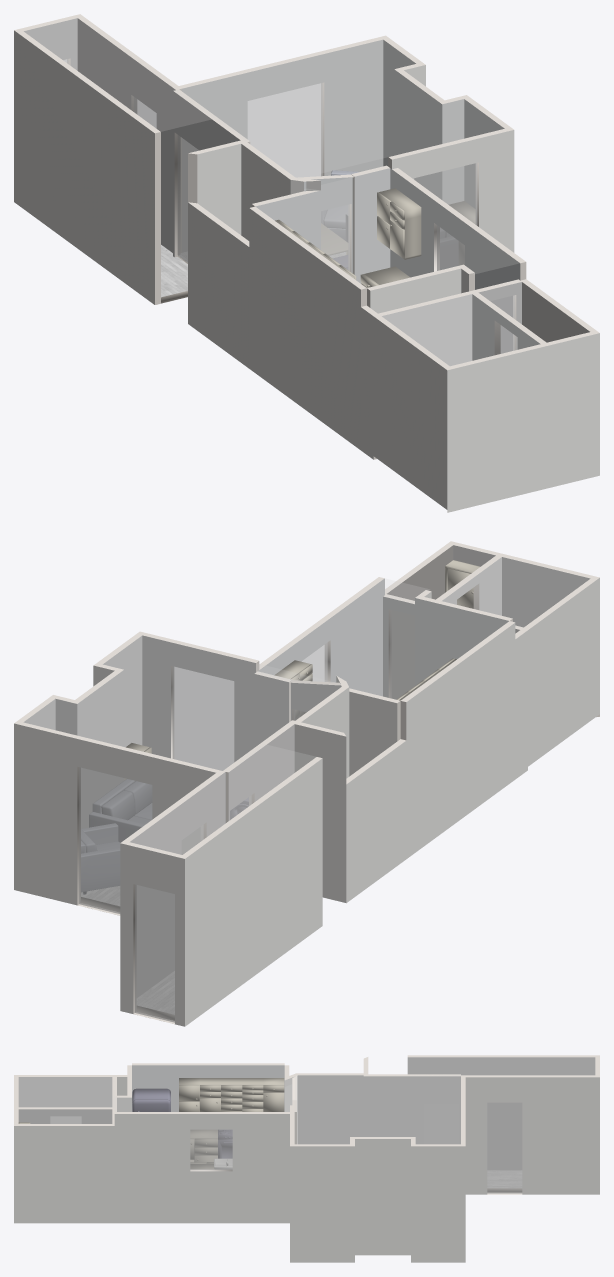
Rendered from DownStairs.fbx.
3 views of the same model, one above another, from view 1: azimuth 30°, elevation 25°; view 2: azimuth 150°, elevation 25°; view 3: azimuth 270°, elevation 25° (orthographic). The views are drawn at different scales.
Visible parts, largest first — view 1: node_e09bec85_41fc_4711_9617_8f8910af11a0_mesh0, node_bde98dd7_7468_4153_a539_24a3189ed876_mesh0, node_0b18f23c_bc8f_4157_9709_190154636790_mesh0, node_01e51485_fe51_4777_a3a5_19509112cd63_mesh0, node_1a5cfd26_9a8b_479d_abb2_7899710f35ef_mesh0, node_c01352d6_4fd7_4d85_8f3b_c463dabbd80f_mesh0, node_ffc3a1aa_f51f_4ea8_8422_f7a84c919ce6_mesh0, node_b0e78153_e67b_43ed_bbc0_40629ec5e424_mesh0, node_323c6156_c255_4d85_be8c_0e797ea8f996_mesh0, node_5beae804_e252_41e1_a04f_5f7b3a50b98e_mesh0, node_81e302af_e833_48b1_a591_9fe09c23a3ef_mesh0, node_7e9cc0b6_a148_431a_a0c9_c3fac64e8589_mesh0 (+43 smaller); view 2: node_e09bec85_41fc_4711_9617_8f8910af11a0_mesh0, node_bde98dd7_7468_4153_a539_24a3189ed876_mesh0, node_0b18f23c_bc8f_4157_9709_190154636790_mesh0, node_01e51485_fe51_4777_a3a5_19509112cd63_mesh0, node_2a53ef35_360b_44c9_b38c_00fb4d23d2f0_mesh0, node_ffc3a1aa_f51f_4ea8_8422_f7a84c919ce6_mesh0, node_323c6156_c255_4d85_be8c_0e797ea8f996_mesh0, node_5be73d70_f1b3_44f5_8d6b_68177abcffa0_mesh0, node_9fc1e416_7690_45b0_ac8a_476d6e7e381b_mesh0, node_5beae804_e252_41e1_a04f_5f7b3a50b98e_mesh0, node_36df12cf_c507_4c27_984b_3d0ab139e0b8_mesh0, node_1b665375_91c2_4794_8de1_ce417a291fd9_mesh0 (+36 smaller); view 3: node_accc8754_920d_4ff0_9299_b2c19e268f00_mesh0, node_6cfdf036_8b06_4120_8c19_443959e26cde_mesh0, node_bde98dd7_7468_4153_a539_24a3189ed876_mesh0, node_3a8d0fe2_1a15_415c_9de5_a7100d054b01_mesh0, node_a383c2f8_4a6b_40b8_ae9d_d3fb77bf1724_mesh0, node_01e51485_fe51_4777_a3a5_19509112cd63_mesh0, node_cbb2425d_44f6_4e39_bd98_3902286c184a_mesh0, node_8b4183f2_b441_4803_816d_a50b9f045cc8_mesh0, node_500df28b_4a0c_4304_93cd_dac4d9cb548c_mesh0, node_66e54a97_b7ef_489a_a5c7_5b703dbcf2a3_mesh0, node_285773a9_73ff_42a8_bec4_ac37b0c98d70_mesh0, node_1dcaae64_7e3b_43db_8381_1f36511030cd_mesh0 (+24 smaller).
Boxes of the visible parts, <box> form: node_e09bec85_41fc_4711_9617_8f8910af11a0_mesh0: <box>14,30,154,304</box>; node_bde98dd7_7468_4153_a539_24a3189ed876_mesh0: <box>180,40,503,178</box>; node_0b18f23c_bc8f_4157_9709_190154636790_mesh0: <box>249,208,360,450</box>; node_01e51485_fe51_4777_a3a5_19509112cd63_mesh0: <box>256,169,518,287</box>; node_1a5cfd26_9a8b_479d_abb2_7899710f35ef_mesh0: <box>447,346,547,512</box>; node_c01352d6_4fd7_4d85_8f3b_c463dabbd80f_mesh0: <box>182,39,383,252</box>; node_ffc3a1aa_f51f_4ea8_8422_f7a84c919ce6_mesh0: <box>373,317,447,509</box>; node_b0e78153_e67b_43ed_bbc0_40629ec5e424_mesh0: <box>547,333,599,488</box>; node_323c6156_c255_4d85_be8c_0e797ea8f996_mesh0: <box>188,202,249,368</box>; node_5beae804_e252_41e1_a04f_5f7b3a50b98e_mesh0: <box>77,18,175,252</box>; node_81e302af_e833_48b1_a591_9fe09c23a3ef_mesh0: <box>382,294,539,365</box>; node_7e9cc0b6_a148_431a_a0c9_c3fac64e8589_mesh0: <box>392,130,514,252</box>; node_e09bec85_41fc_4711_9617_8f8910af11a0_mesh0: <box>185,758,322,1026</box>; node_bde98dd7_7468_4153_a539_24a3189ed876_mesh0: <box>25,636,341,770</box>; node_0b18f23c_bc8f_4157_9709_190154636790_mesh0: <box>406,623,515,858</box>; node_01e51485_fe51_4777_a3a5_19509112cd63_mesh0: <box>257,579,508,699</box>; node_2a53ef35_360b_44c9_b38c_00fb4d23d2f0_mesh0: <box>14,723,215,905</box>; node_ffc3a1aa_f51f_4ea8_8422_f7a84c919ce6_mesh0: <box>528,578,599,766</box>; node_323c6156_c255_4d85_be8c_0e797ea8f996_mesh0: <box>346,741,406,902</box>; node_5be73d70_f1b3_44f5_8d6b_68177abcffa0_mesh0: <box>79,767,151,913</box>; node_9fc1e416_7690_45b0_ac8a_476d6e7e381b_mesh0: <box>79,768,151,913</box>; node_5beae804_e252_41e1_a04f_5f7b3a50b98e_mesh0: <box>130,772,225,997</box>; node_36df12cf_c507_4c27_984b_3d0ab139e0b8_mesh0: <box>142,635,255,762</box>; node_1b665375_91c2_4794_8de1_ce417a291fd9_mesh0: <box>258,578,384,696</box>; node_accc8754_920d_4ff0_9299_b2c19e268f00_mesh0: <box>114,1114,289,1223</box>; node_6cfdf036_8b06_4120_8c19_443959e26cde_mesh0: <box>465,1077,599,1194</box>; node_bde98dd7_7468_4153_a539_24a3189ed876_mesh0: <box>295,1076,460,1143</box>; node_3a8d0fe2_1a15_415c_9de5_a7100d054b01_mesh0: <box>14,1126,114,1223</box>; node_a383c2f8_4a6b_40b8_ae9d_d3fb77bf1724_mesh0: <box>290,1146,354,1262</box>; node_01e51485_fe51_4777_a3a5_19509112cd63_mesh0: <box>115,1066,291,1111</box>; node_cbb2425d_44f6_4e39_bd98_3902286c184a_mesh0: <box>407,1057,595,1169</box>; node_8b4183f2_b441_4803_816d_a50b9f045cc8_mesh0: <box>355,1139,410,1255</box>; node_500df28b_4a0c_4304_93cd_dac4d9cb548c_mesh0: <box>411,1146,465,1262</box>; node_66e54a97_b7ef_489a_a5c7_5b703dbcf2a3_mesh0: <box>363,1076,460,1144</box>; node_285773a9_73ff_42a8_bec4_ac37b0c98d70_mesh0: <box>298,1075,363,1144</box>; node_1dcaae64_7e3b_43db_8381_1f36511030cd_mesh0: <box>179,1078,284,1111</box>.
Size of the model in its own units: 454 by 273 by 1235.
22 materials, 8 textured.
